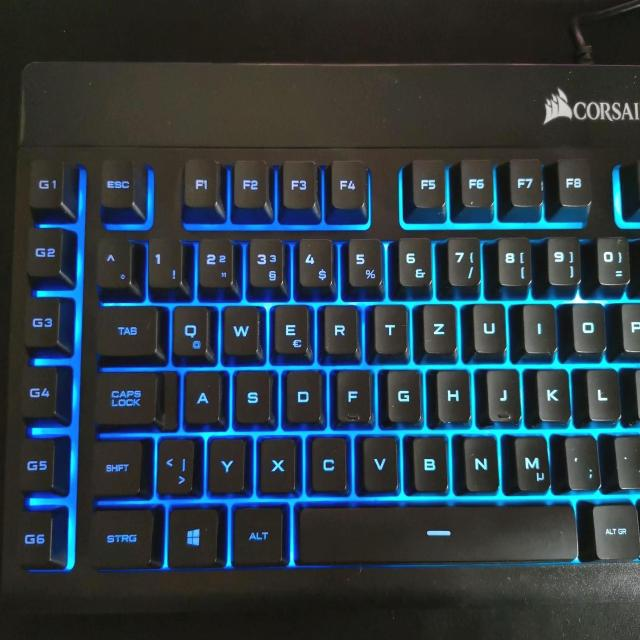0: (596, 233, 632, 286)
1: (146, 236, 183, 291)
2: (197, 235, 235, 290)
3: (247, 236, 286, 292)
4: (297, 237, 334, 291)
5: (345, 235, 384, 292)
6: (396, 235, 433, 291)
7: (446, 233, 480, 287)
8: (496, 234, 533, 287)
9: (545, 234, 582, 287)
a: (183, 369, 222, 424)
alt-left: (231, 503, 286, 565)
altgr-right: (591, 502, 640, 559)
b: (411, 433, 449, 493)
c: (309, 434, 348, 493)
caret: (95, 236, 132, 291)
comma: (563, 433, 599, 490)
d: (284, 368, 323, 424)
e: (271, 301, 311, 358)
f: (335, 367, 372, 423)
g: (385, 367, 422, 422)
h: (435, 367, 470, 423)
i: (521, 300, 556, 353)
j: (485, 365, 520, 422)
k: (535, 366, 570, 422)
keyboard: (17, 143, 640, 600)
l: (585, 366, 620, 421)
less: (156, 434, 195, 496)
m: (513, 432, 549, 493)
n: (462, 433, 499, 492)
o: (571, 300, 606, 354)
p: (620, 299, 640, 352)
point: (612, 432, 640, 488)
q: (170, 302, 213, 364)
r: (322, 301, 359, 356)
s: (233, 369, 272, 424)
shift-left: (90, 437, 143, 496)
shift-lock: (93, 370, 158, 426)
space: (7, 62, 569, 147), (292, 499, 580, 563)
strg-left: (88, 505, 156, 568)
t: (372, 301, 408, 354)
tab: (95, 304, 159, 357)
u: (472, 300, 507, 354)
v: (361, 433, 398, 493)
w: (221, 302, 262, 358)
x: (258, 434, 297, 494)
y: (206, 434, 246, 494)
z: (421, 301, 457, 355)
